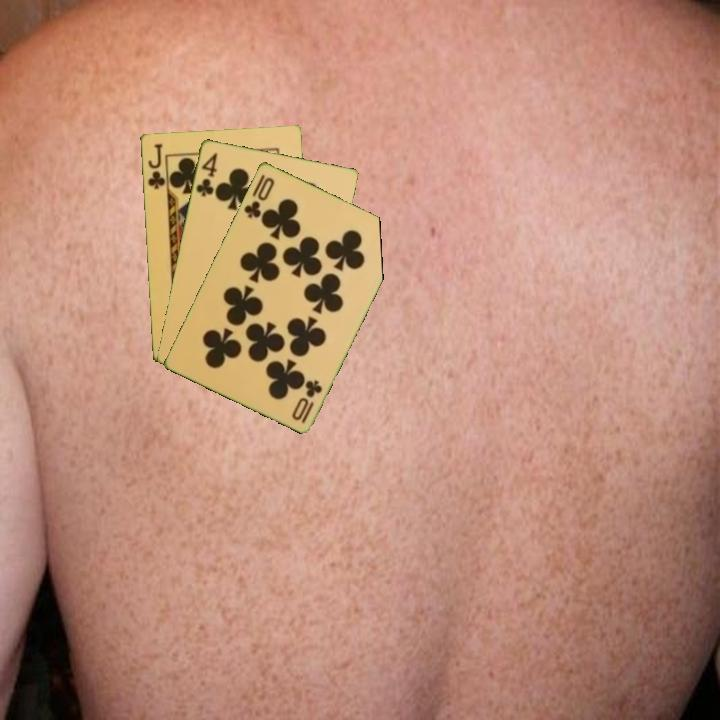10c: (288, 376, 325, 426), (240, 173, 277, 221)
4c: (192, 149, 220, 199)
Jc: (144, 140, 168, 192)
